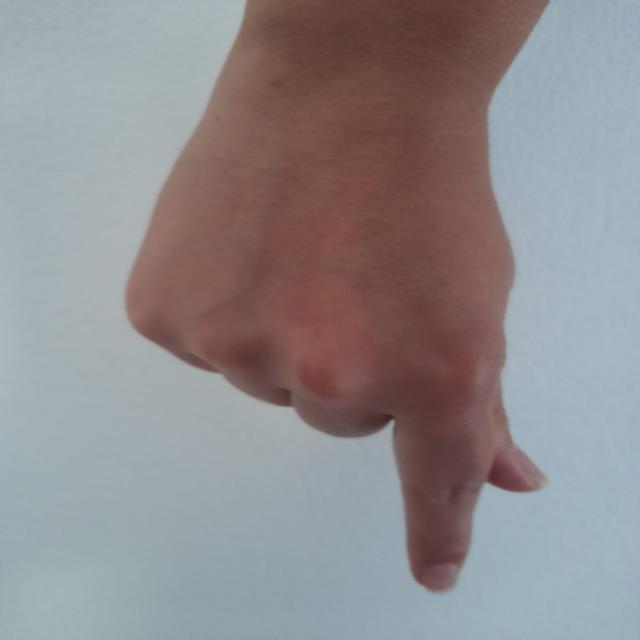Q: (113, 27, 550, 590)
